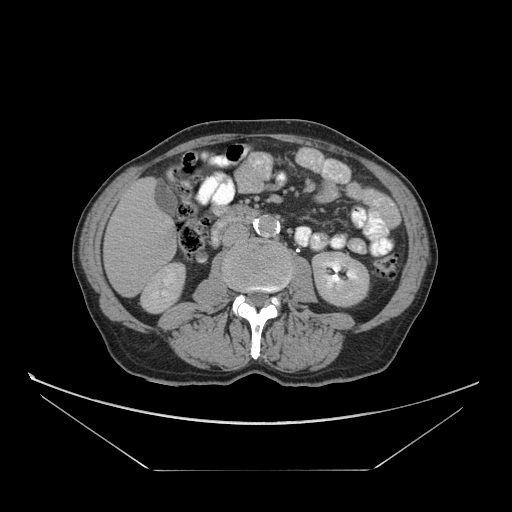left_kidney: (137, 262, 190, 316)
right_kidney: (305, 247, 372, 311)
